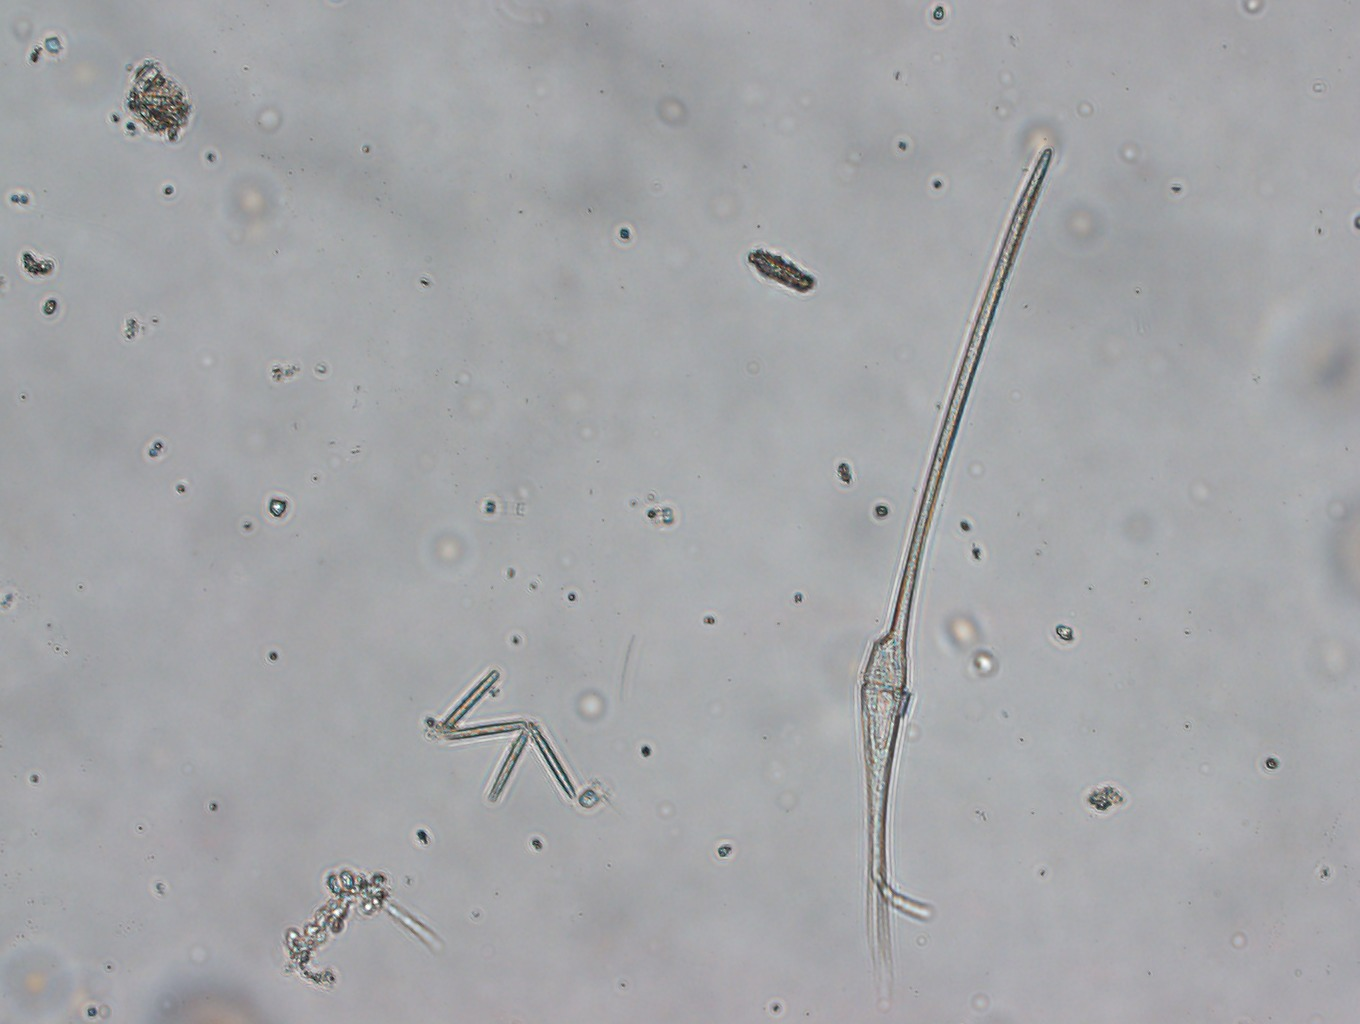ceratium fusus: (846, 137, 1078, 992)
thalassionema nitzschioides: (426, 662, 585, 812)
